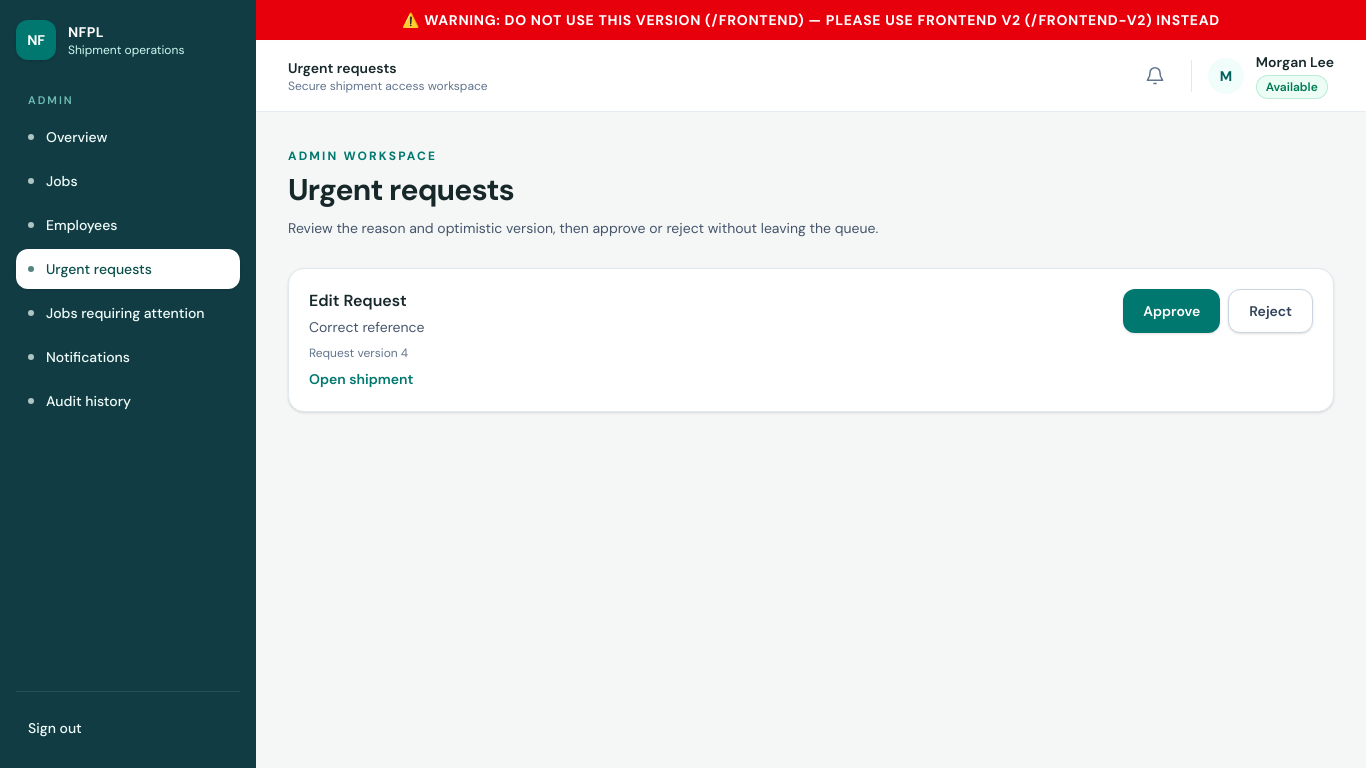
Phase 6B Admin workflows › uses request versions and shows a stale-decision response
Click the button "Approve" at (1172, 311), box [1123,289,1220,333]
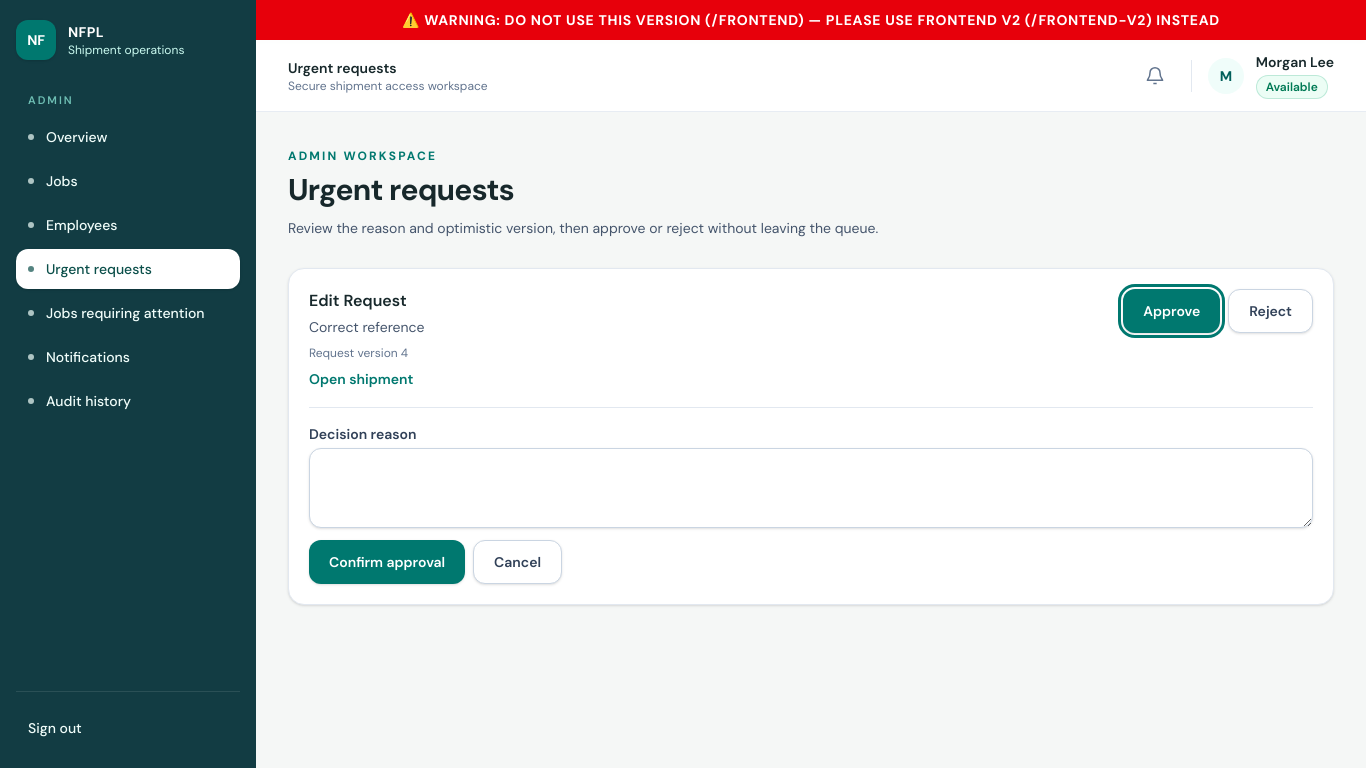
Type "Independent review" into the text box labelled "Decision reason" at (811, 488), box [309,448,1313,528]
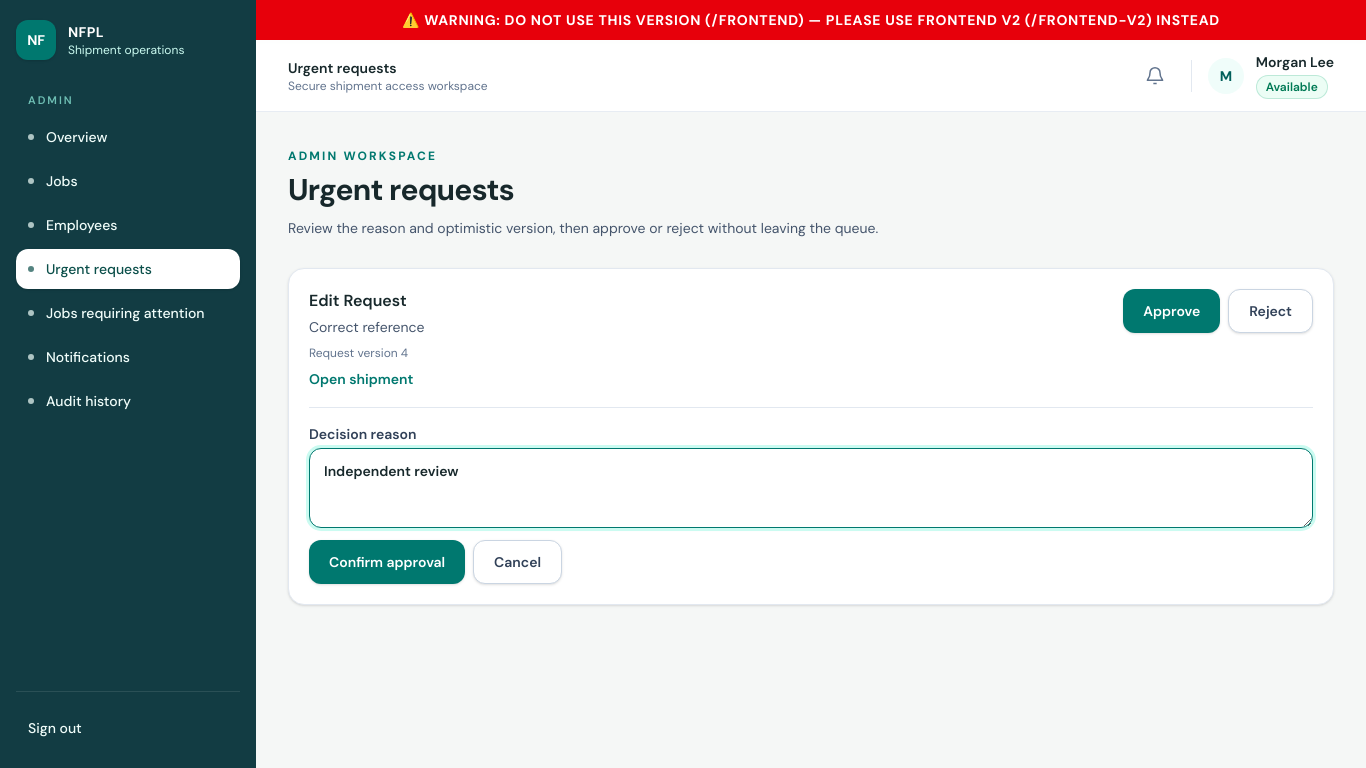
Click the button "Confirm approval" at (387, 562), box [309,540,465,584]
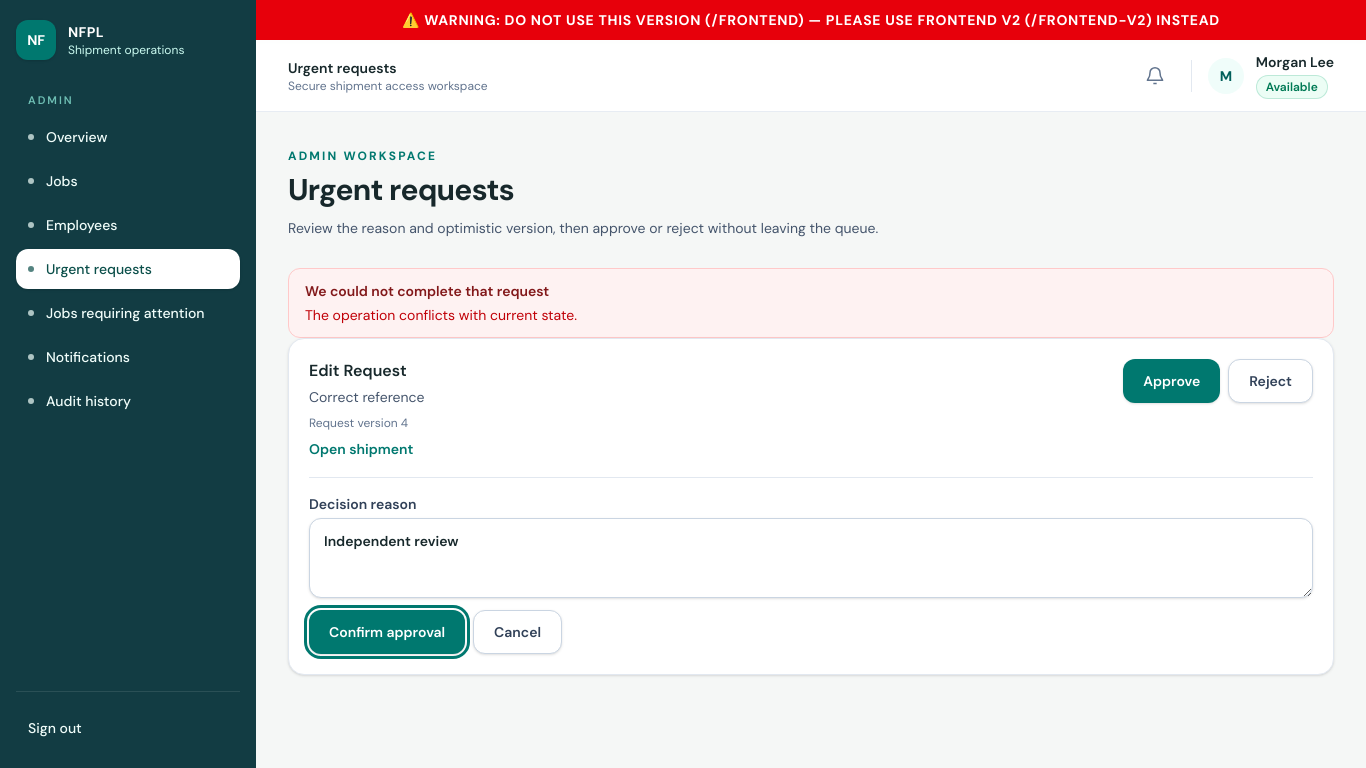
Result: the text "The operation conflicts with current state." is shown at [305,306,577,324]
